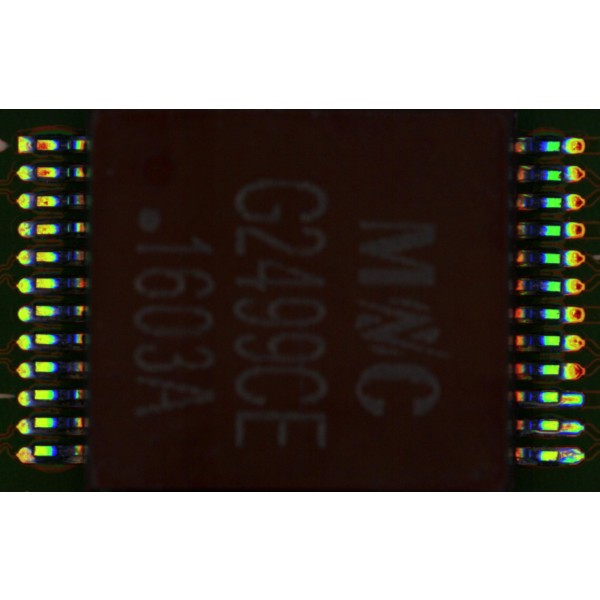Bad_podu: (553, 424, 572, 431), (550, 396, 572, 402)
Bad_qiaojiao: (530, 431, 559, 434)
